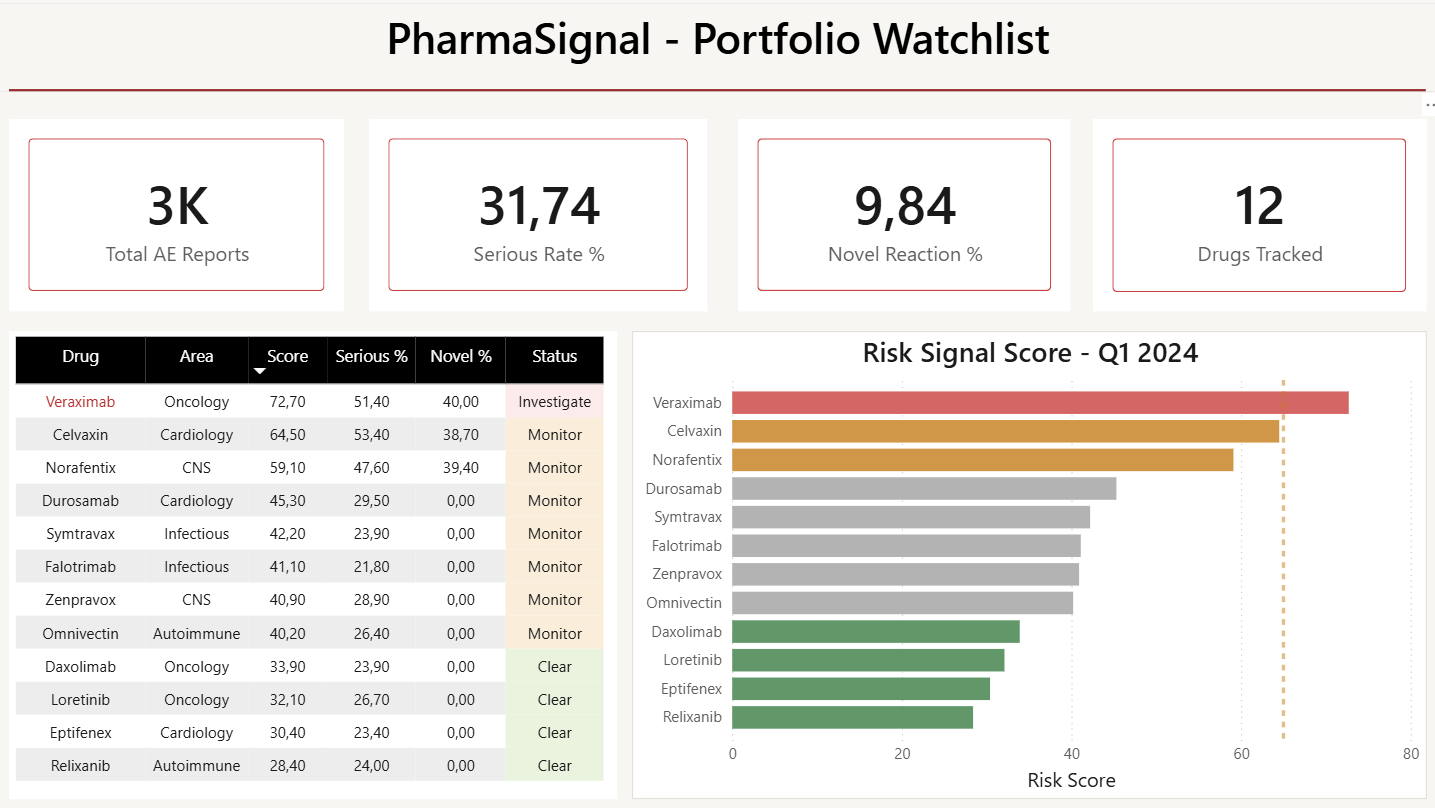

The dashboard page shown, as its layout file describes it:
{"tool":"powerbi","page":{"name":"Watchlist","canvas":[1280,720],"ordinal":0},"visuals":[{"type":"cardVisual","fields":{"Data":["Avg(risk_watchlist.serious_pct)"]},"box":[333.6,110.5,297.1,168.8],"z":0},{"type":"cardVisual","fields":{"Data":["Avg(risk_watchlist.novel_pct)"]},"box":[657.3,110.5,292.1,168.8],"z":1000},{"type":"cardVisual","fields":{"Data":["risk_watchlist.Total Reports"]},"box":[17.8,110.5,294.1,168.8],"z":2000},{"type":"cardVisual","fields":{"Data":["CountNonNull(risk_watchlist.drug_name)"]},"box":[969.6,110.7,292.6,169],"z":3000},{"type":"tableEx","fields":{"Values":["risk_watchlist.drug_name","risk_watchlist.therapeutic_area","Avg(risk_watchlist.composite_score)","Avg(risk_watchlist.serious_pct)","Avg(risk_watchlist.novel_pct)","risk_watchlist.signal_flag"]},"box":[17.8,297.1,533.9,410.5],"z":4000},{"type":"clusteredBarChart","title":"Risk Signal Score - Q1 2024","fields":{"Category":["risk_watchlist.drug_name"],"Y":["Sum(risk_watchlist.composite_score)"]},"box":[564.5,297.1,697.7,410.5],"z":5000},{"type":"textbox","box":[0,8.9,1280,78],"z":6000},{"type":"shape","box":[17.8,79.9,1244.5,10.9],"z":7000}]}

Visuals, with their boxes in screenshot pixels (x1, y1, x2, y2), scaled from the page's 1280x720 canvas onto the 1435x808 screenshot:
cardVisual - Avg(risk_watchlist.serious_pct): 374,124,707,313
cardVisual - Avg(risk_watchlist.novel_pct): 737,124,1064,313
cardVisual - risk_watchlist.Total Reports: 20,124,350,313
cardVisual - CountNonNull(risk_watchlist.drug_name): 1087,124,1415,314
tableEx - risk_watchlist.drug_name x risk_watchlist.therapeutic_area: 20,333,619,794
"Risk Signal Score - Q1 2024" clusteredBarChart: 633,333,1415,794
textbox: 0,10,1434,98
shape: 20,90,1415,102
